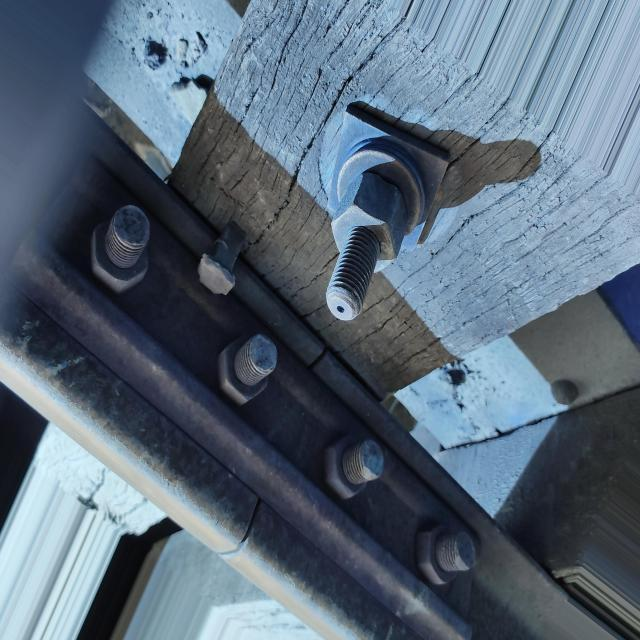Good Fasteners: (326, 102, 463, 320), (198, 221, 245, 294)
Good Joint: (15, 171, 479, 638)
